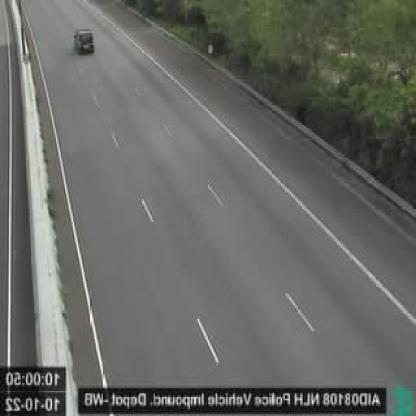Car: (75, 28, 95, 55)
